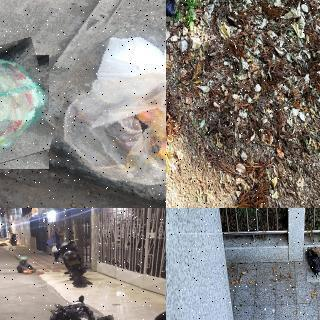Garbage: (56, 26, 166, 189), (0, 46, 55, 178), (48, 306, 96, 320), (304, 246, 320, 282), (166, 0, 180, 22)
